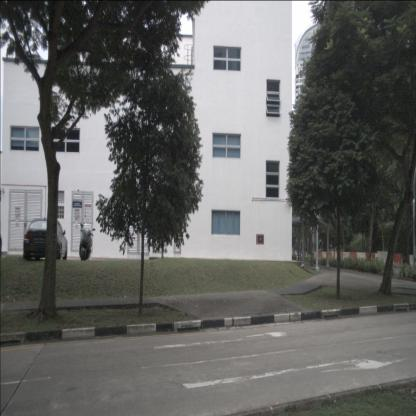movable_object-barrier: (377, 250, 389, 266), (391, 253, 402, 267), (365, 252, 376, 265), (356, 252, 366, 265), (348, 252, 358, 264), (342, 252, 350, 264), (337, 250, 343, 264), (326, 251, 332, 263), (331, 252, 338, 262), (316, 252, 322, 262), (321, 252, 327, 262)
vehicle-car: (23, 218, 68, 261)
vehicle-motorcycle: (80, 223, 96, 262)
